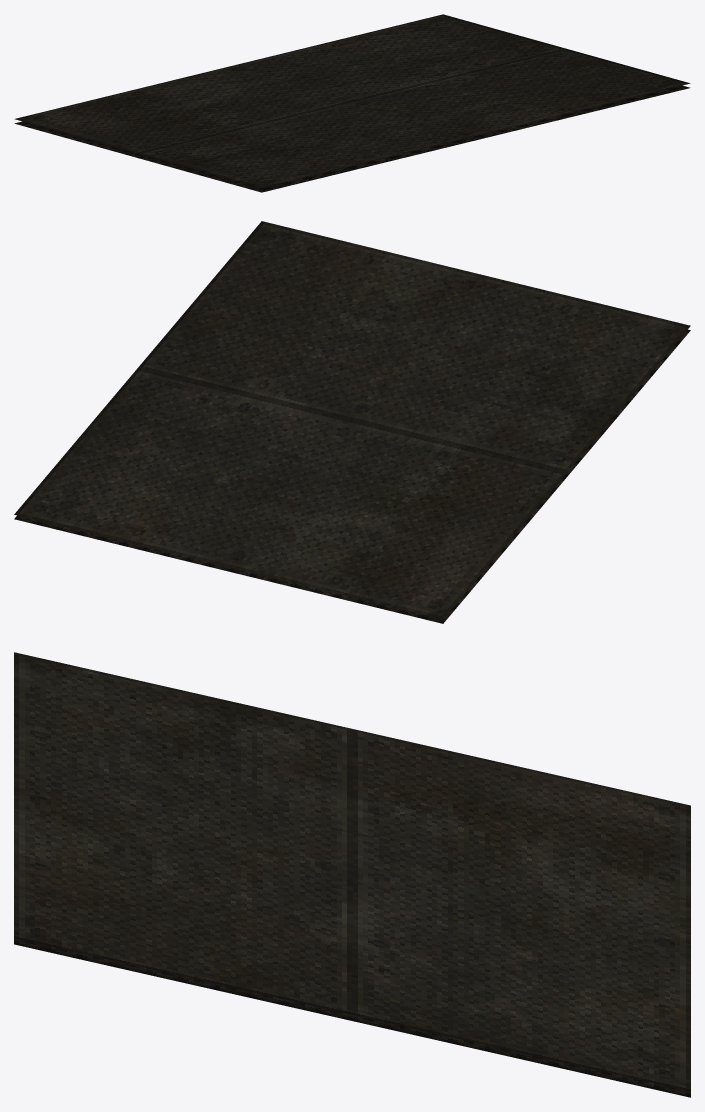
Rendered from platform_1.glb.
The picture shows the model from 3 angles, top to bottom: view 1: azimuth 30°, elevation 25°; view 2: azimuth 150°, elevation 25°; view 3: azimuth 270°, elevation 25°; orthographic projection. The views are drawn at different scales.
Parts seen in each view (by area): view 1: platform_1; view 2: platform_1; view 3: platform_1.
Part boxes in pixels (x1,y1,x2,y2): platform_1: (14,14,690,192); platform_1: (14,221,690,623); platform_1: (14,652,690,1097).
Bounding box in the file's own units: 2 × 0.52 × 2.
2 materials, 2 textured.
